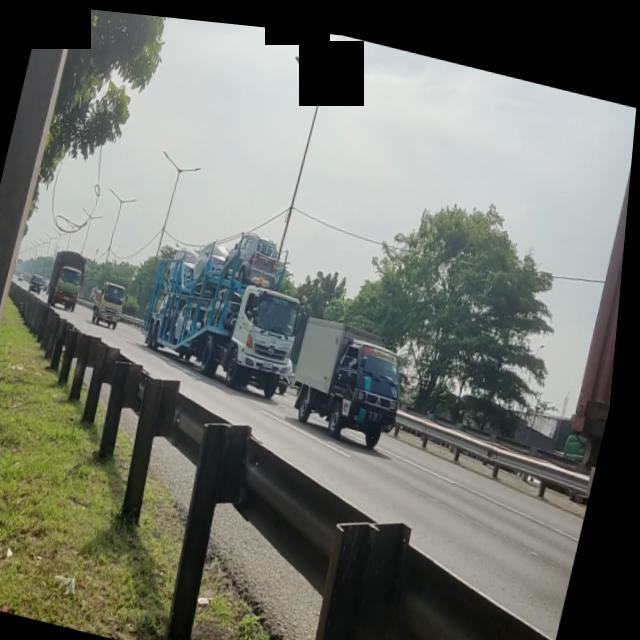Golongan I: (284, 300, 427, 446)
Golongan IV: (138, 238, 318, 404)
